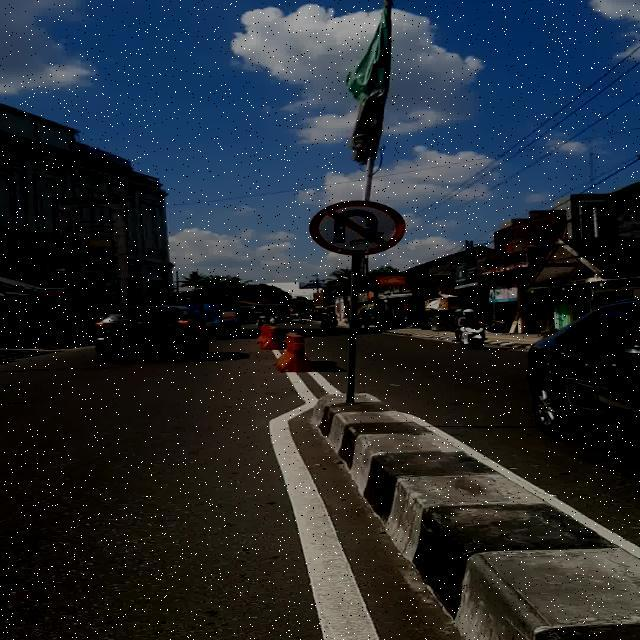Dilarang Putar Balik: (309, 200, 406, 256)
